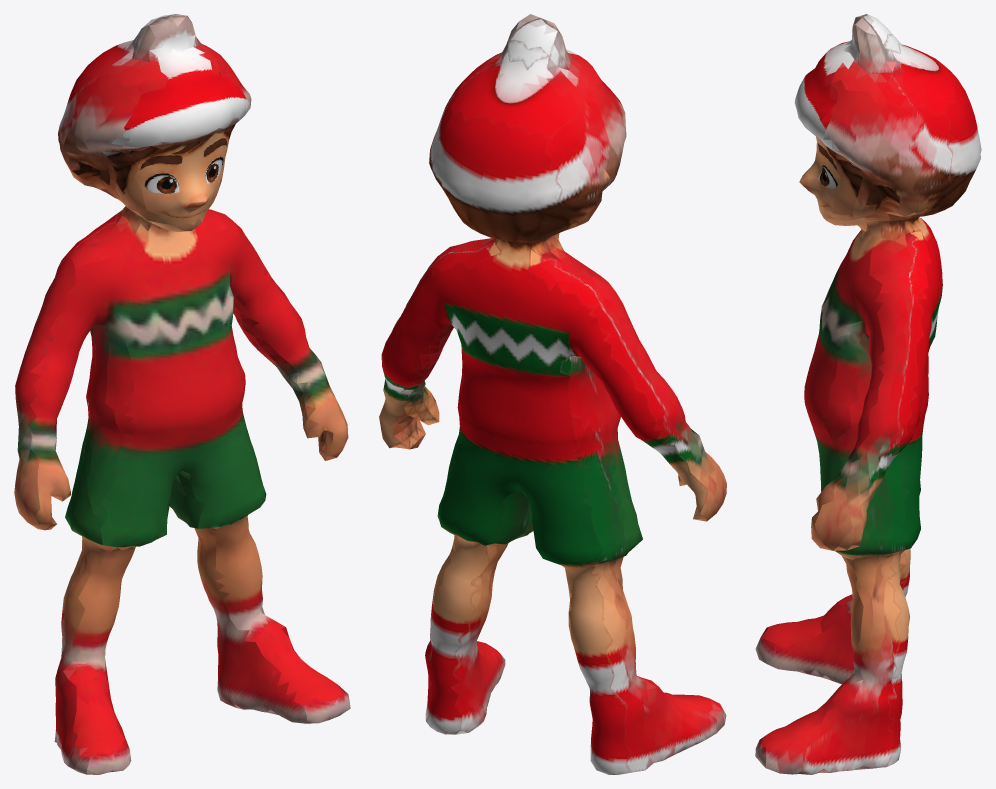
File: sweater-muscle-toon-x5.glb
3 renders of one model, left to right at view 1: azimuth 30°, elevation 25°; view 2: azimuth 150°, elevation 25°; view 3: azimuth 270°, elevation 25°, orthographic. The views are drawn at different scales.
Parts seen in each view (by area): view 1: world; view 2: world; view 3: world.
Boxes of the visible parts, x1,y1,x2,y2 form: world: (14,14,350,774); world: (379,14,726,774); world: (755,14,981,774).
Size of the model in its own units: 2.26 by 4.74 by 1.38.
1 material, 1 textured.
